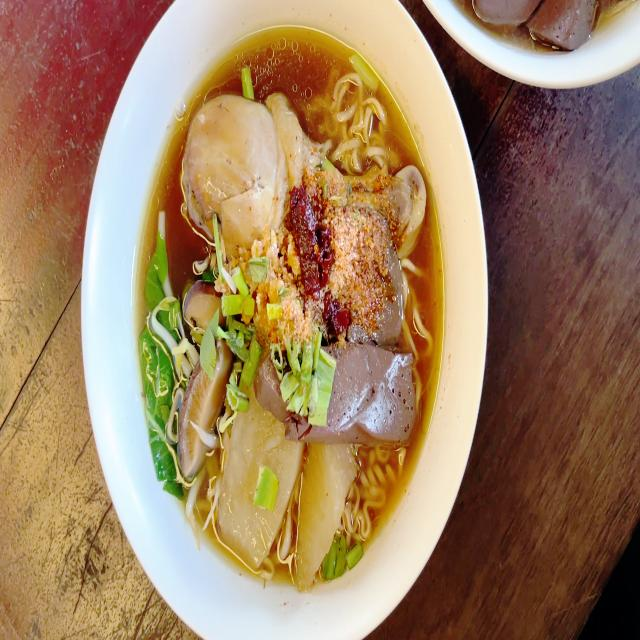boiled_chicken_blood_jelly: (320, 341, 416, 445)
chicken_drumstick: (171, 94, 425, 261)
daikon_radish: (215, 409, 354, 568)
noodle: (132, 9, 453, 594)
